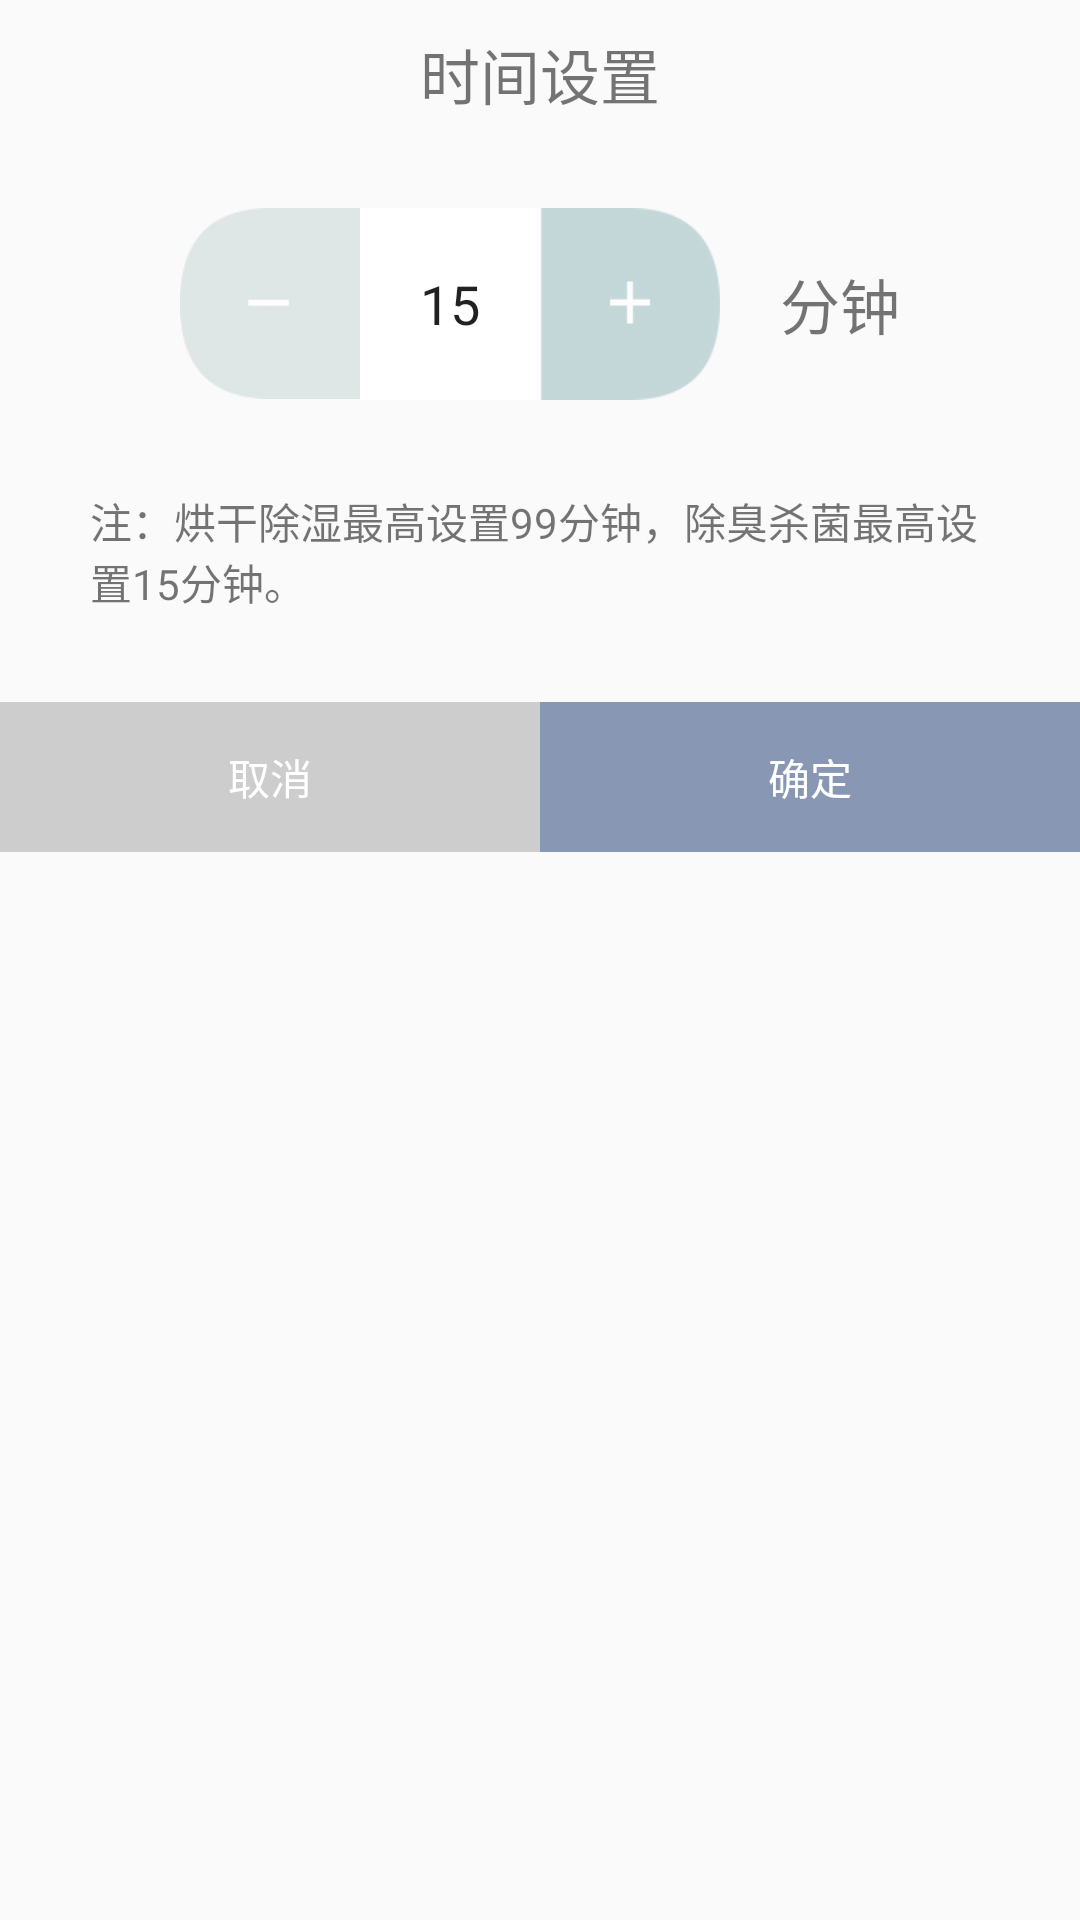

Point at icon controls on the screen. Image size 1080 x 1920, points as point (x, y).
minus: point (270, 303)
plus: point (630, 304)
